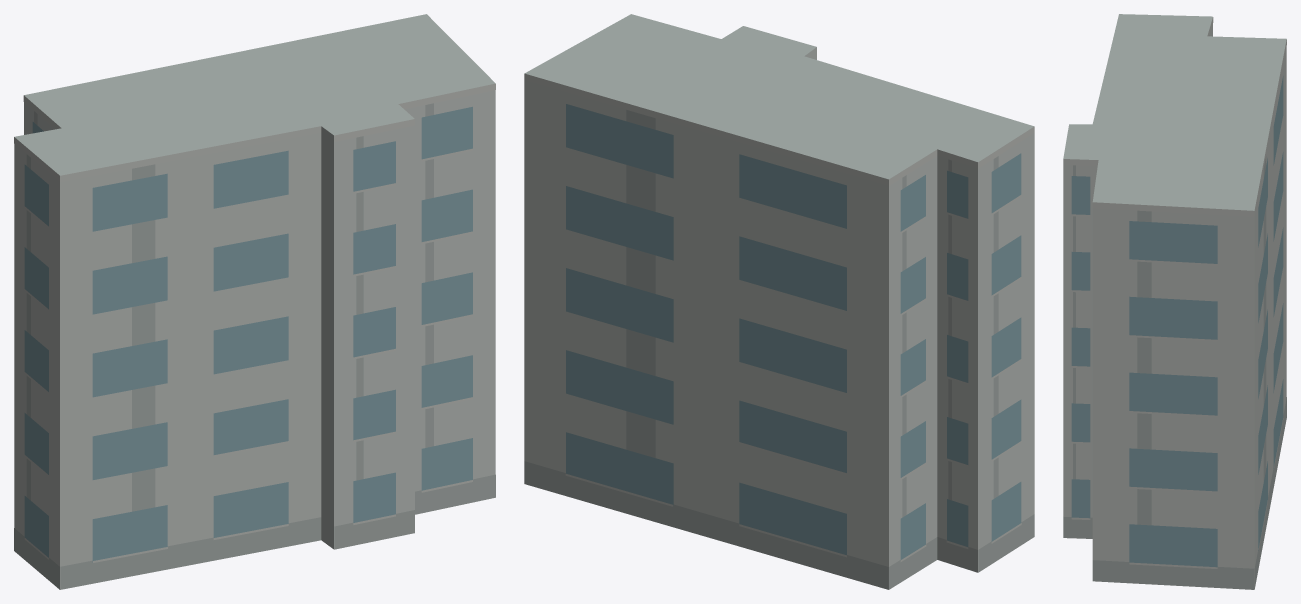
The model's file is survey-upis-32499340.glb.
The picture shows the model from 3 angles, left to right: view 1: azimuth 30°, elevation 25°; view 2: azimuth 150°, elevation 25°; view 3: azimuth 270°, elevation 25°; orthographic projection. The views are drawn at different scales.
Visible parts, largest first — view 1: survey-upis-32499340.tmp; view 2: survey-upis-32499340.tmp; view 3: survey-upis-32499340.tmp.
Part boxes in pixels (x1,y1,x2,y2): survey-upis-32499340.tmp: (14,14,495,589); survey-upis-32499340.tmp: (524,14,1034,589); survey-upis-32499340.tmp: (1063,14,1286,589).
Size of the model in its own units: 16.88 by 15.15 by 8.11.
